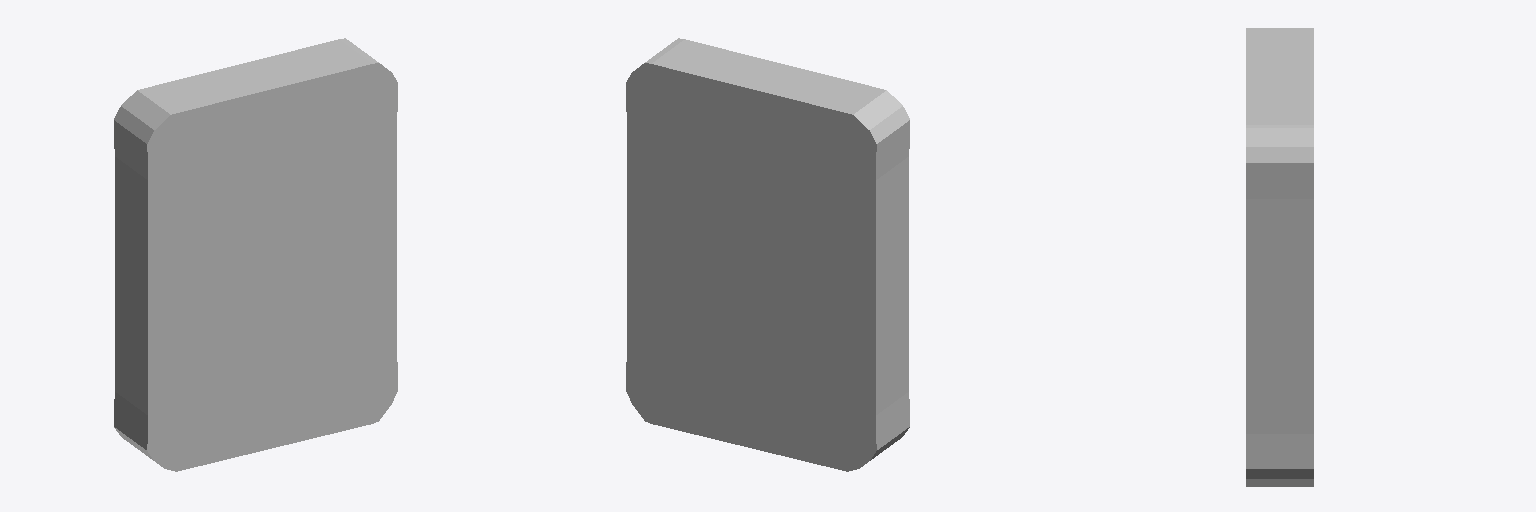
The model's file is weight_center3_phy.obj.
3 views of the same model, side by side, from view 1: azimuth 30°, elevation 25°; view 2: azimuth 150°, elevation 25°; view 3: azimuth 270°, elevation 25° (orthographic).
Visible parts, largest first — view 1: Weight_center3_phy; view 2: Weight_center3_phy; view 3: Weight_center3_phy.
Part boxes in pixels (left/top/right/bottom): Weight_center3_phy: left=114, top=38, right=397, bottom=471; Weight_center3_phy: left=626, top=38, right=909, bottom=471; Weight_center3_phy: left=1246, top=28, right=1313, bottom=486.
Bounding box in the file's own units: 0.0434 × 0.0594 × 0.0101.